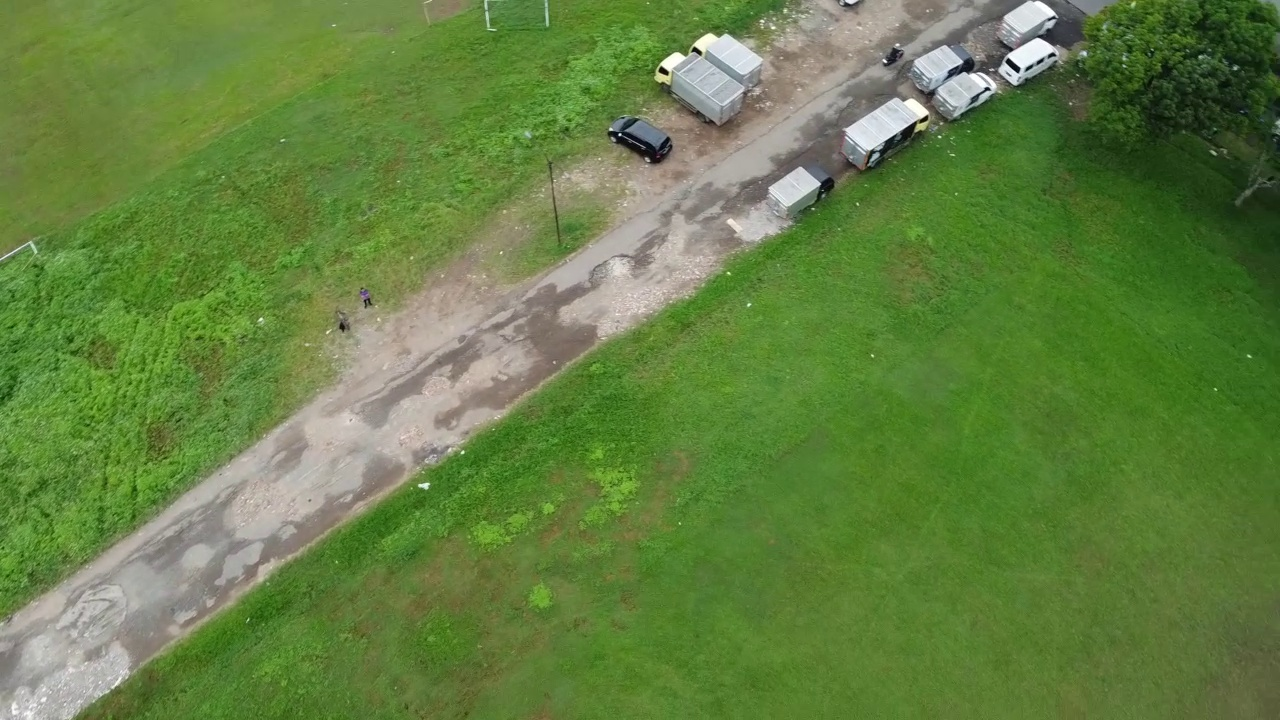mobil: (601, 110, 677, 162), (1001, 35, 1064, 86)
